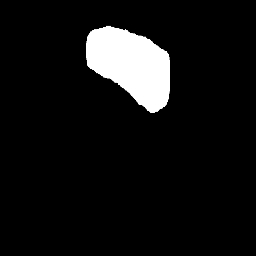mass: (82, 26, 172, 106)
